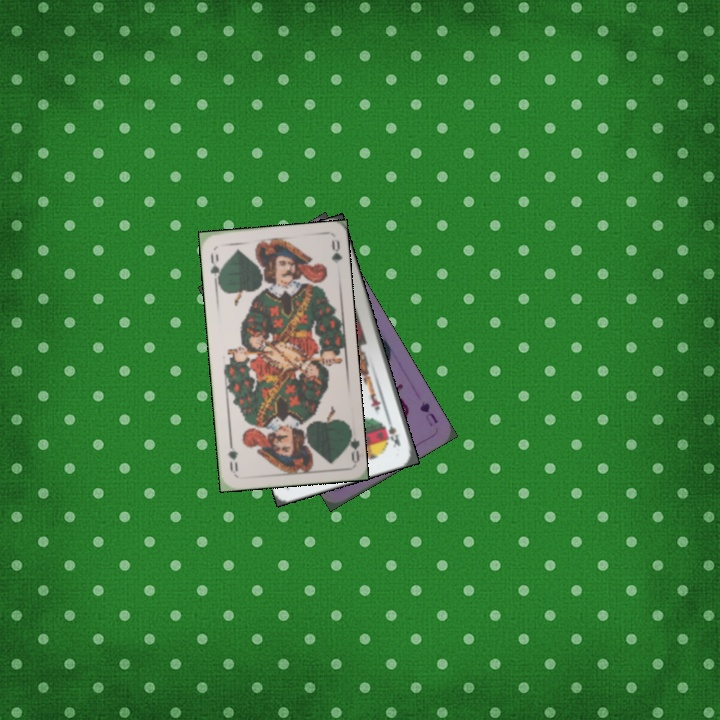GO: (341, 424, 362, 464), (206, 249, 225, 287)
GU: (415, 397, 441, 429)
SK: (382, 412, 403, 450)
